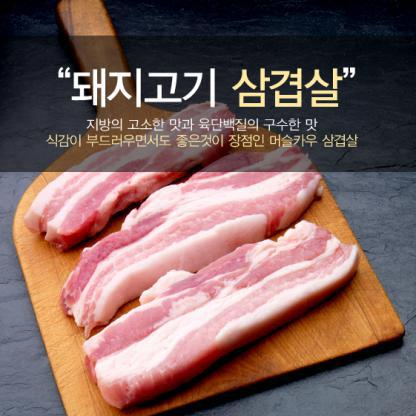pork: (38, 175, 362, 406)
